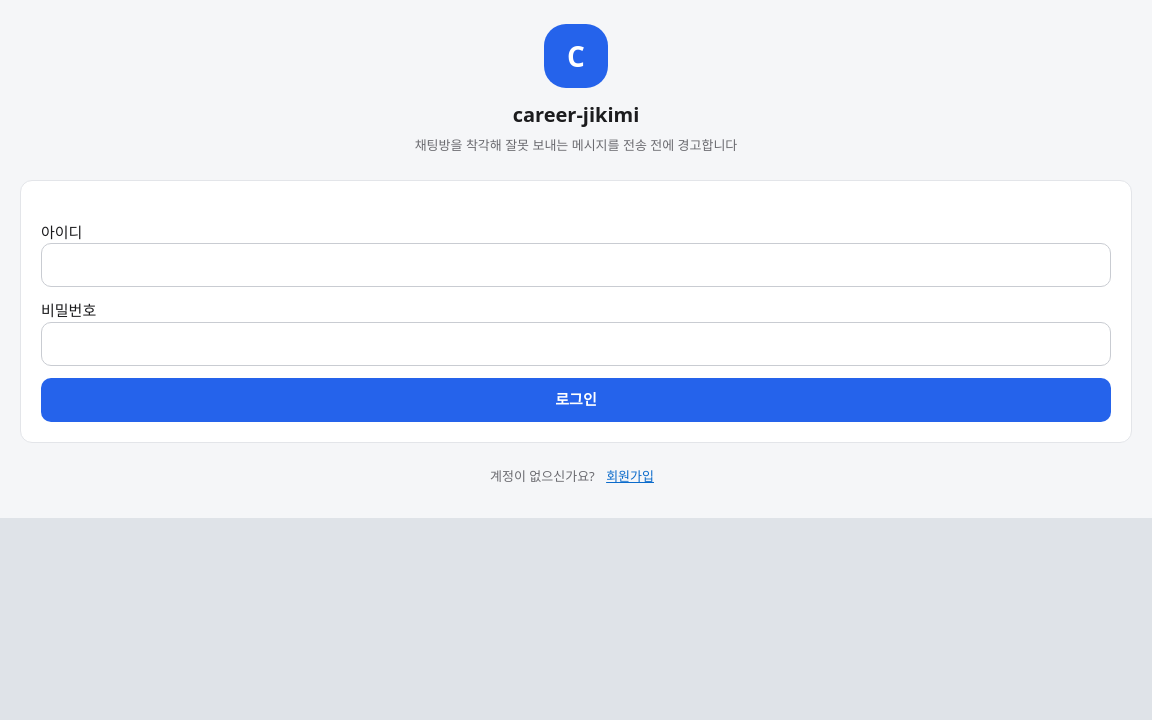
it: AuthView 회원가입 › 짧은 비밀번호는 요청을 보내기 전에 막는다
Step 1. Click the button with test id "auth-switch-mode" → [630, 476], box [598, 458, 662, 494]
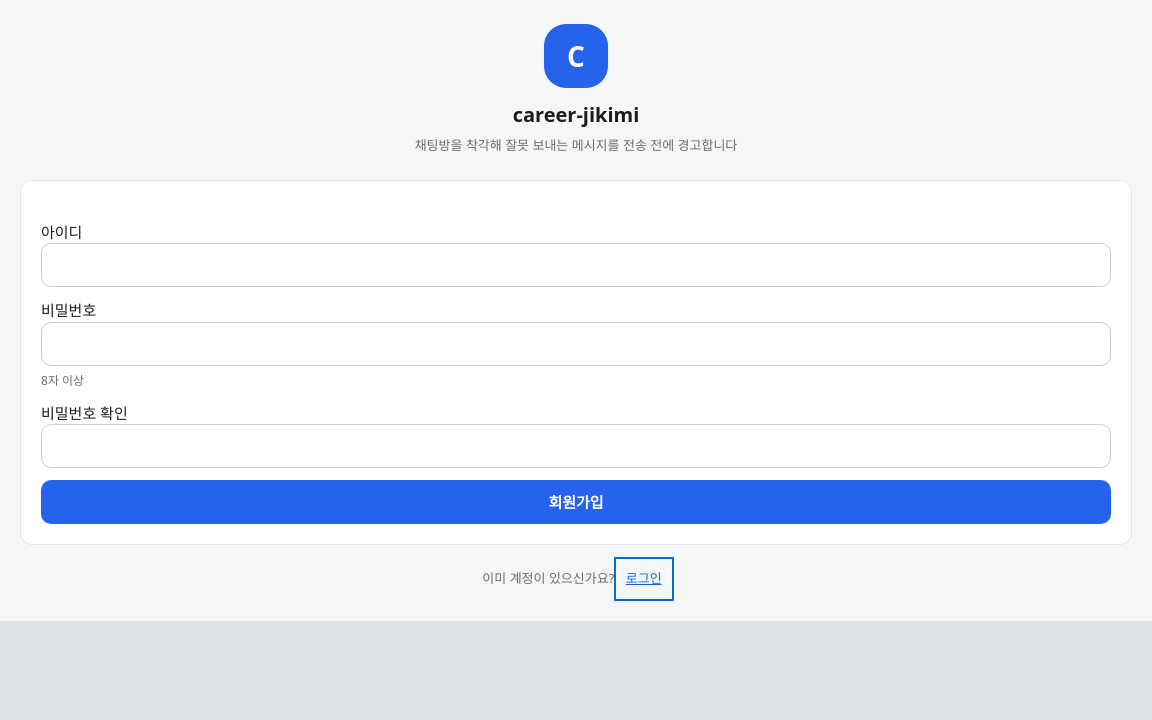
Step 2. Type "shorty" into the field labelled "아이디" → [576, 265], box [41, 243, 1111, 287]
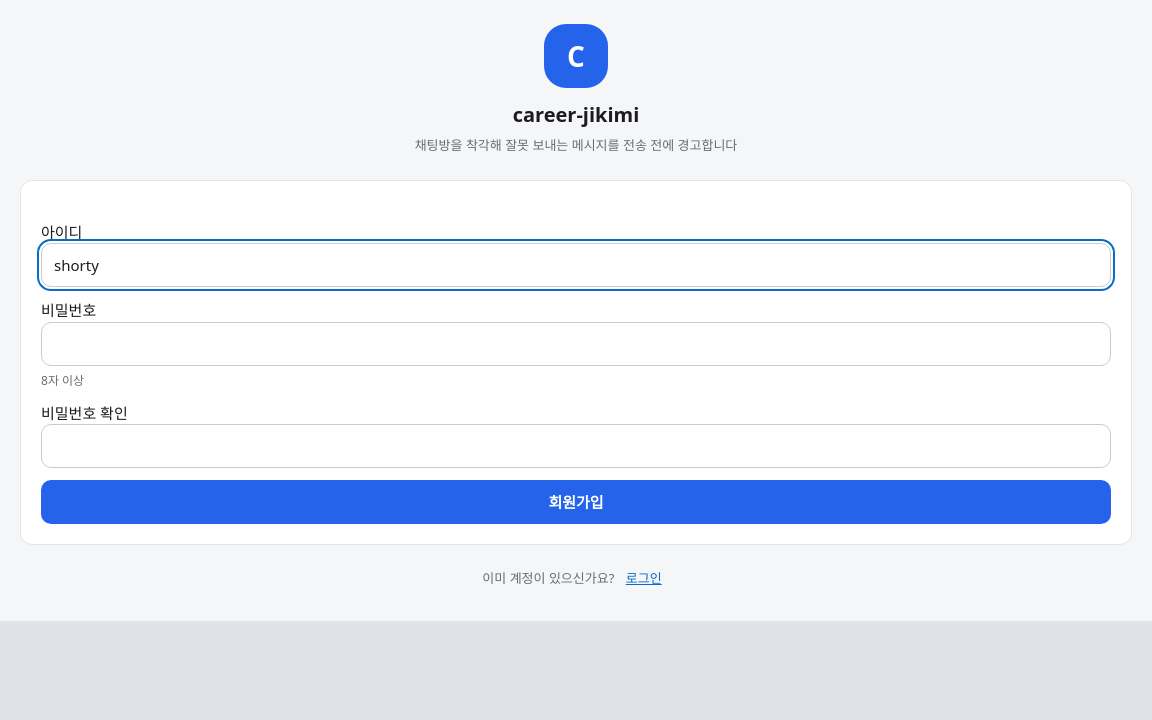
Step 3. Type "pw12345" into the password field labelled "비밀번호" → [576, 344], box [41, 322, 1111, 366]
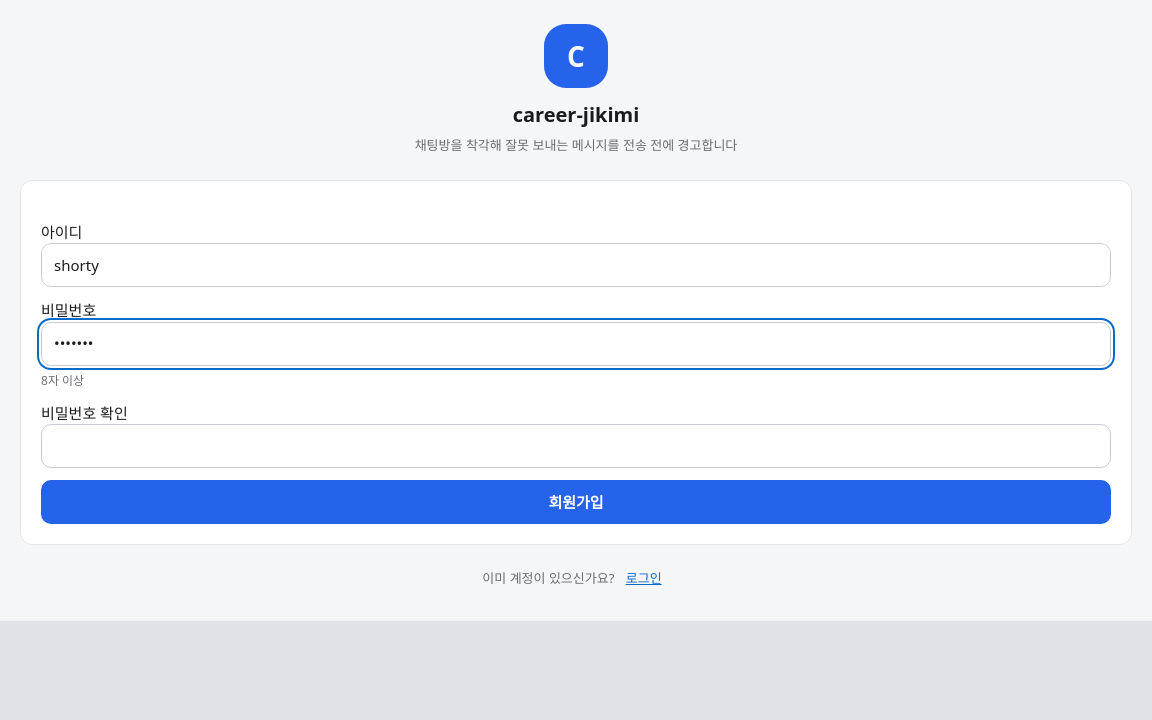
Step 4. Type "pw12345" into the password field labelled "비밀번호 확인" → [576, 446], box [41, 424, 1111, 468]
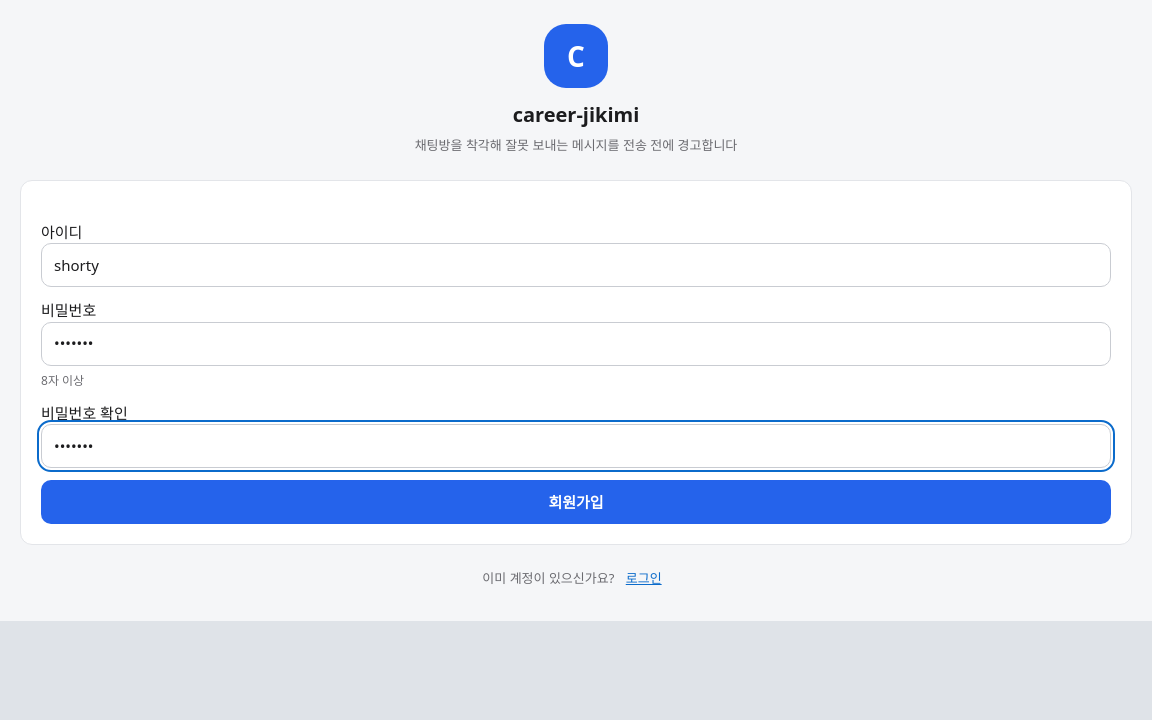
Step 5. Click the button with test id "auth-signup-submit" → [576, 502], box [41, 480, 1111, 524]
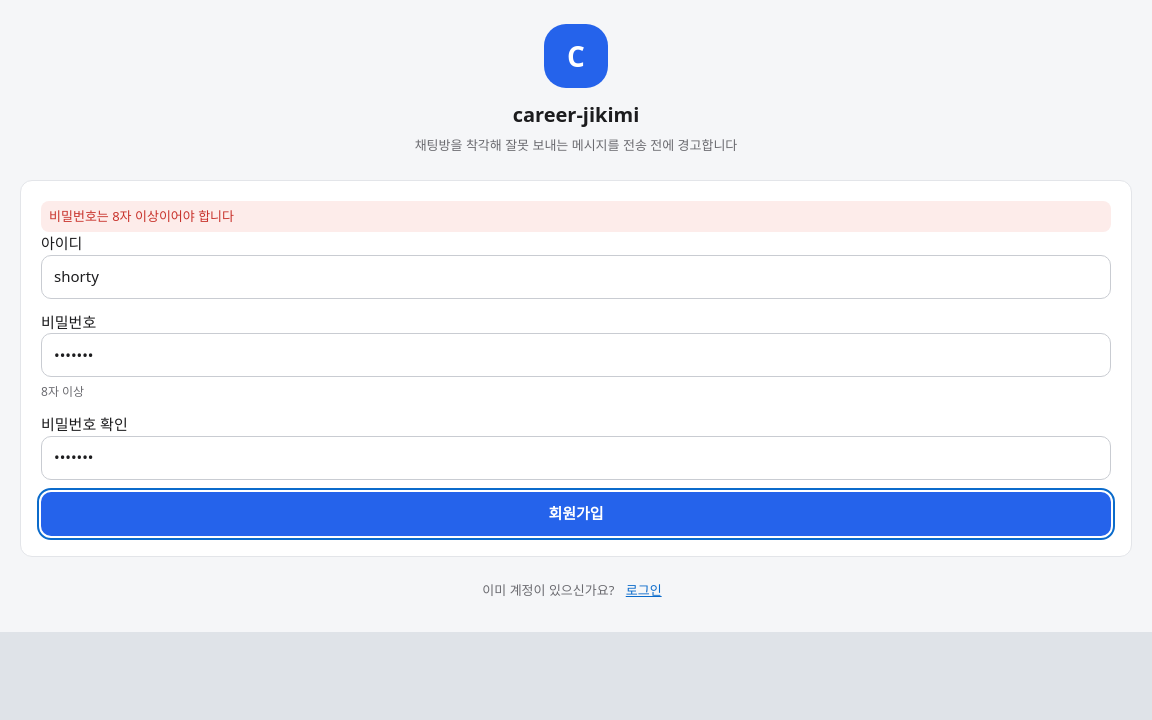
Now the text with test id "auth-error" shows "8자 이상", box [49, 206, 234, 224]
